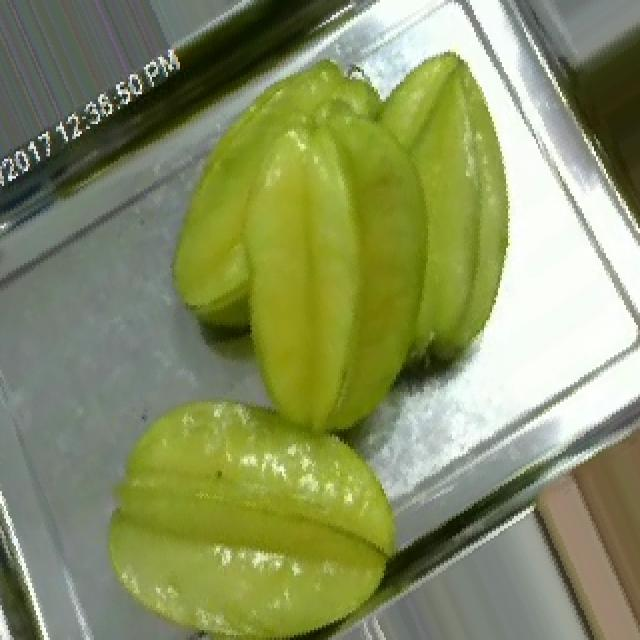fruit: (126, 25, 640, 486), (60, 342, 436, 640), (508, 374, 640, 640)
